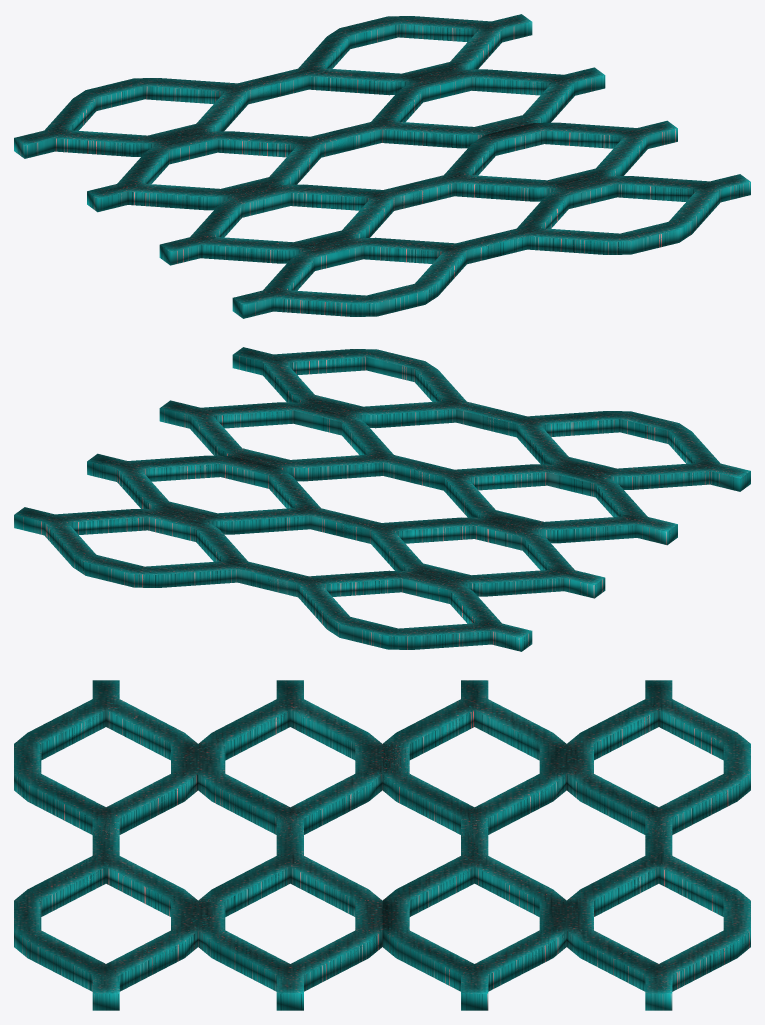
File: hex.obj
3 renders of one model, top to bottom at view 1: azimuth 30°, elevation 25°; view 2: azimuth 150°, elevation 25°; view 3: azimuth 270°, elevation 25°, orthographic. The views are drawn at different scales.
Visible parts, largest first — view 1: hex; view 2: hex; view 3: hex.
Boxes of the visible parts, <box> form: hex: <box>14,14,750,318</box>; hex: <box>14,347,750,651</box>; hex: <box>14,680,750,1010</box>.
Bounding box in the file's own units: 20.16 × 0.5 × 20.04.
1 material, 1 textured.
